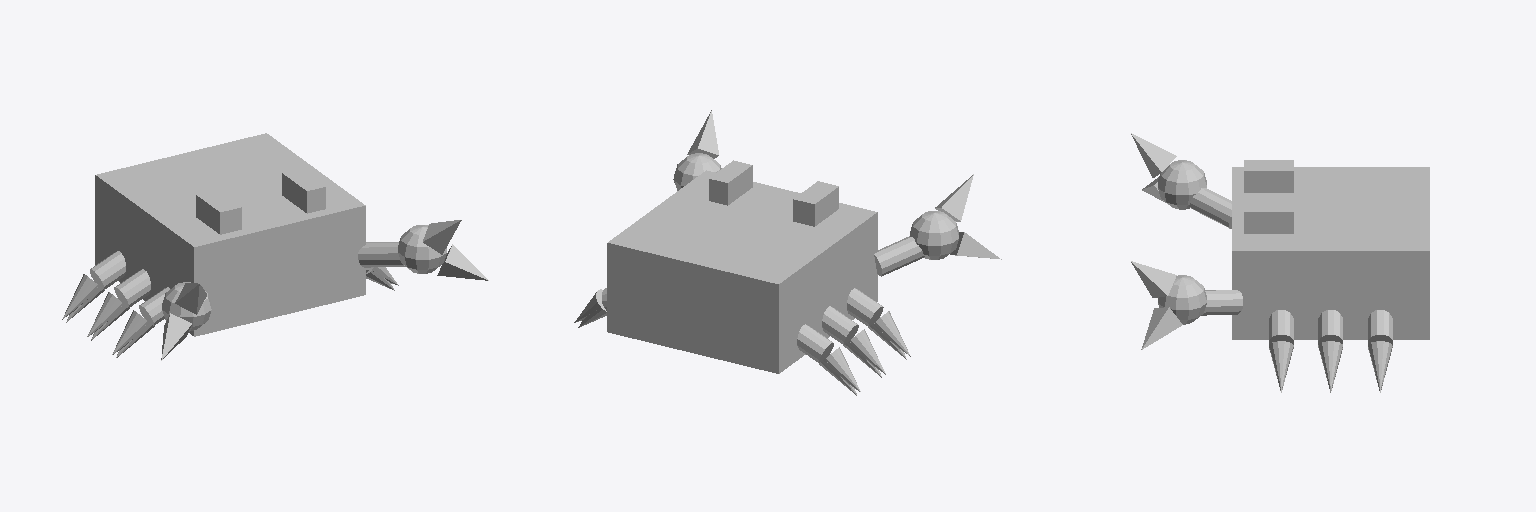
Rendered from Crab_2.obj.
3 views of the same model, side by side, from view 1: azimuth 30°, elevation 25°; view 2: azimuth 150°, elevation 25°; view 3: azimuth 270°, elevation 25° (orthographic).
Visible parts, largest first — view 1: cuboid, cylinder, pyramid, cone, sphere; view 2: cuboid, cylinder, cone, sphere, pyramid; view 3: cuboid, cylinder, sphere, pyramid, cone.
Part boxes in pixels (x1,y1,x2,y2): cuboid: (95,133,365,336); cylinder: (90,242,405,325); pyramid: (161,220,488,360); cone: (62,267,398,357); sphere: (162,225,446,331); cuboid: (607,160,877,373); cylinder: (602,236,924,362); cone: (574,289,910,395); sphere: (674,153,958,259); pyramid: (673,110,1001,259); cuboid: (1232,160,1429,339); cylinder: (1189,188,1392,344); sphere: (1158,160,1206,324); pyramid: (1131,133,1182,349); cone: (1269,341,1392,392).
Size of the model in its own units: 1.92 by 0.7765 by 1.51.